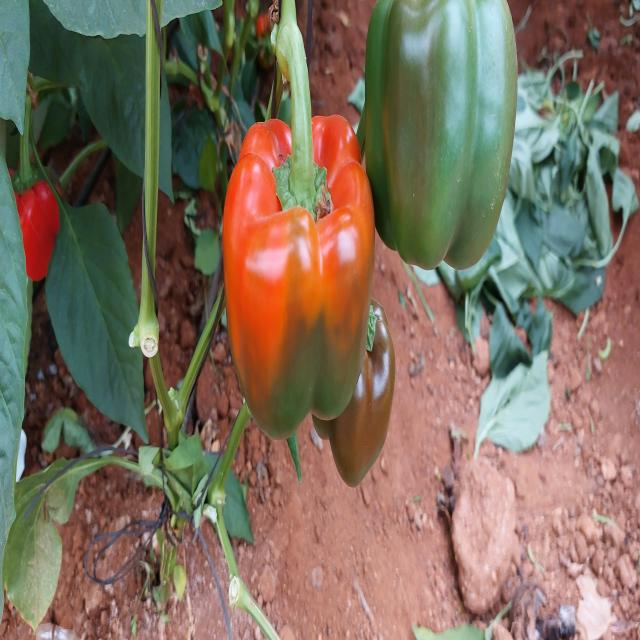BrownishRed--Can-be-Harvested: (374, 11, 517, 267)
Red-Ready-to-Harvest: (236, 92, 375, 435), (321, 336, 399, 502), (17, 188, 64, 290)
